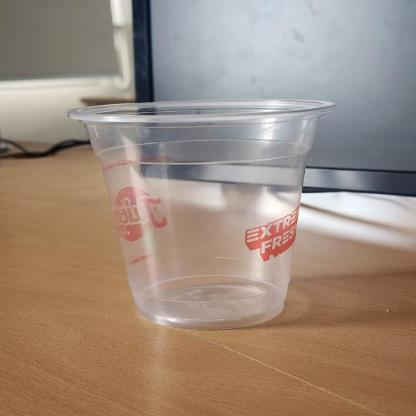Plastic Cup: (64, 97, 338, 330)
